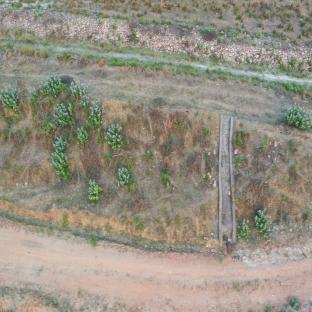rock_toe: (5, 4, 311, 75)
slope_drain: (0, 201, 275, 266), (218, 115, 238, 246)
